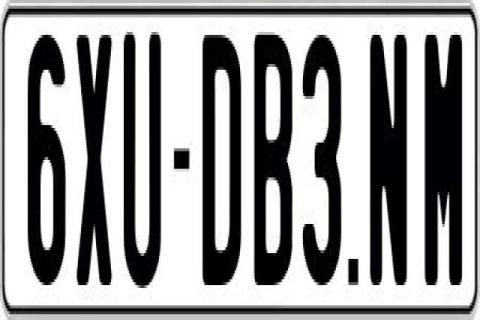0: (300, 32, 344, 300), (28, 32, 71, 282)
B: (252, 26, 296, 282)
D: (202, 32, 246, 288)
M: (422, 29, 458, 285)
N: (369, 32, 407, 296)
U: (123, 23, 166, 297)
X: (74, 35, 114, 285)
